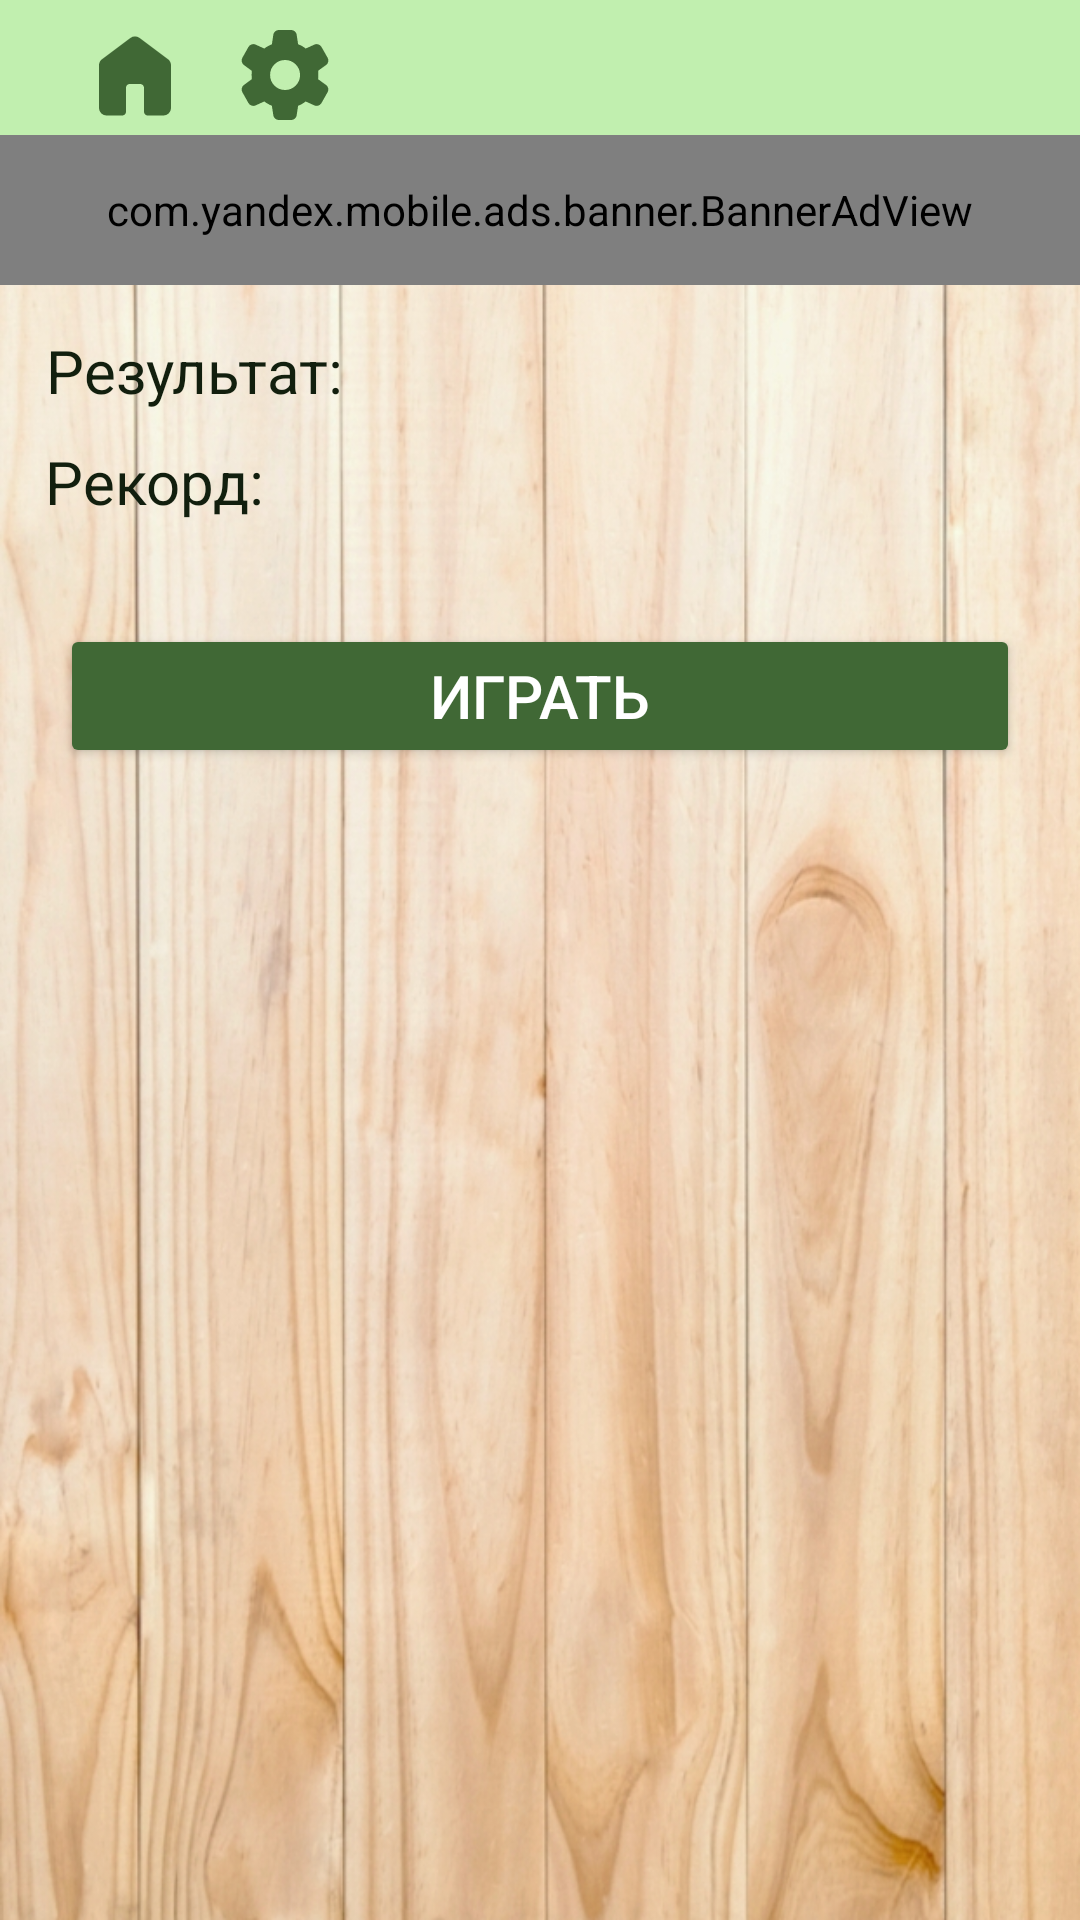

Icon bounding boxes for this 1080 × 1920 phone screenshot, format (x1, y1, x2, y2):
home: (99, 36, 171, 116)
settings: (241, 30, 329, 120)
